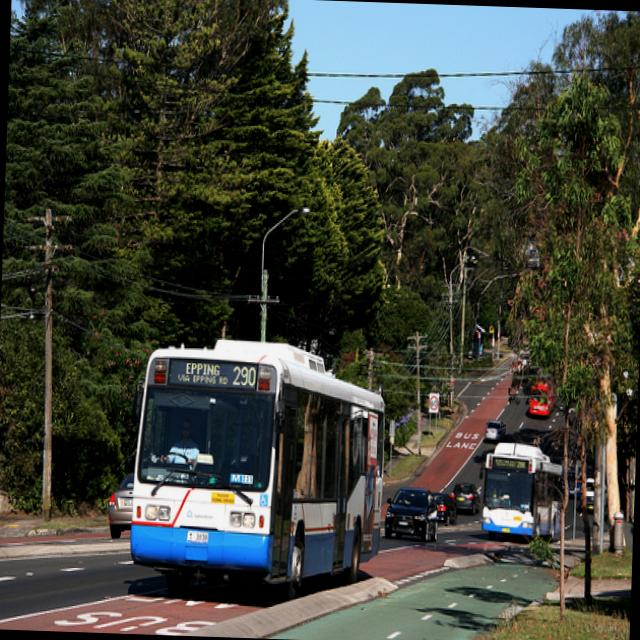Vehicle: (128, 336, 386, 600), (482, 442, 567, 544), (384, 486, 439, 542), (107, 470, 134, 540), (528, 380, 556, 420), (449, 481, 482, 514), (428, 492, 458, 526), (484, 419, 508, 441)
